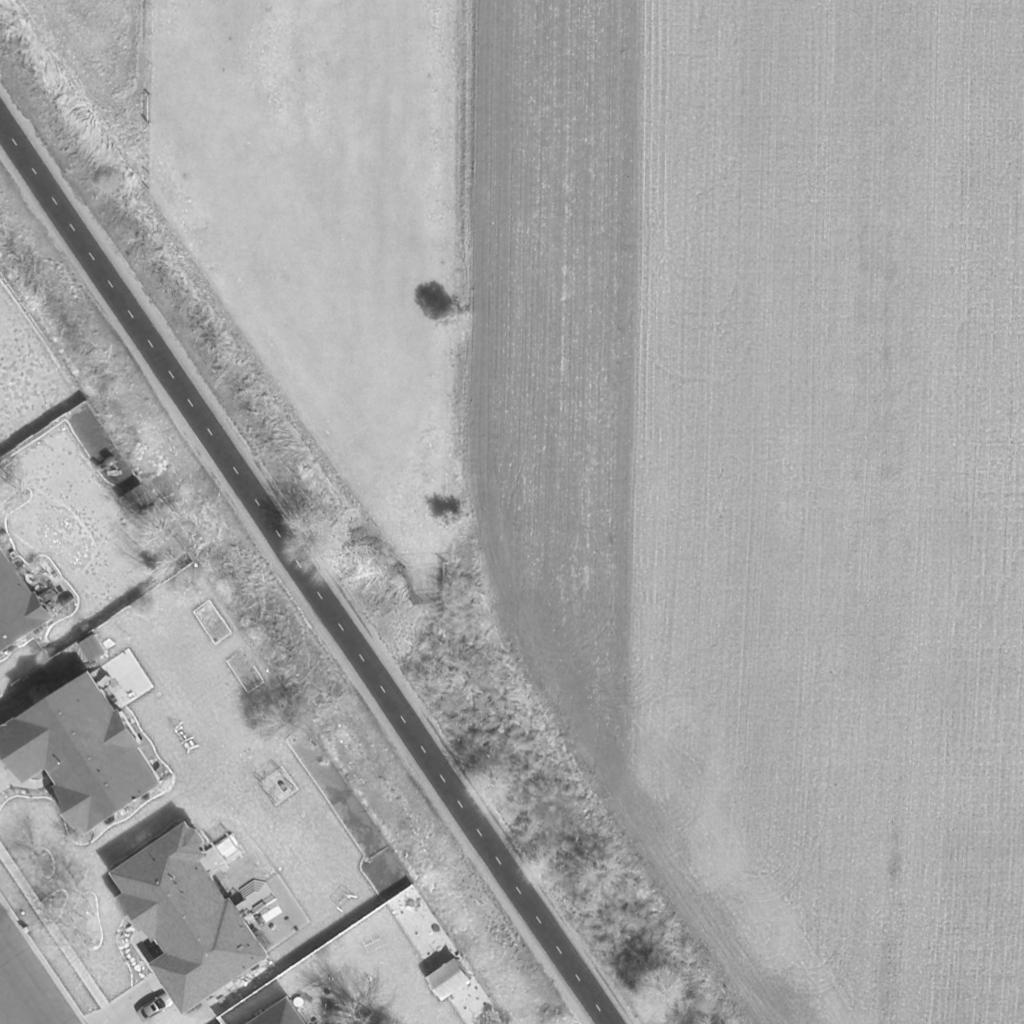vehicle: (138, 989, 178, 1023)
